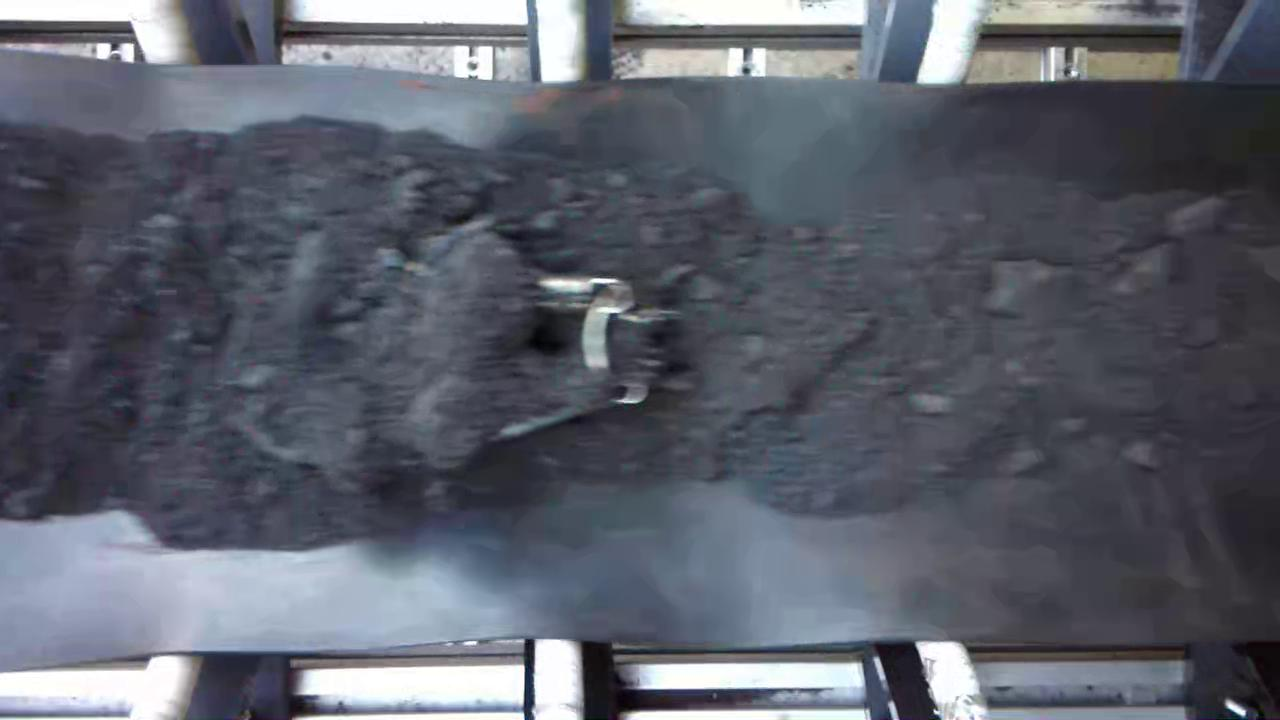conveyor: (5, 88, 1280, 633)
